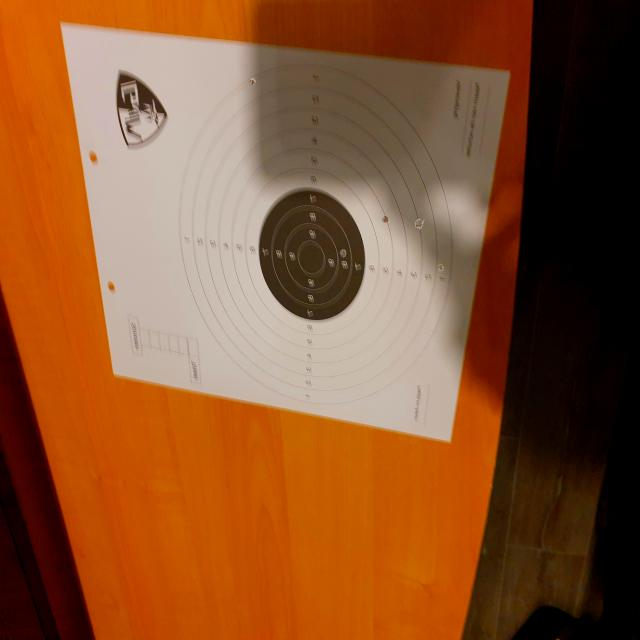1: (437, 263, 444, 274), (250, 76, 256, 86)
3: (414, 218, 425, 230)
5: (382, 215, 389, 224)
8: (339, 248, 347, 258)
Target: (178, 62, 453, 408)
black_contour: (258, 188, 366, 321)
